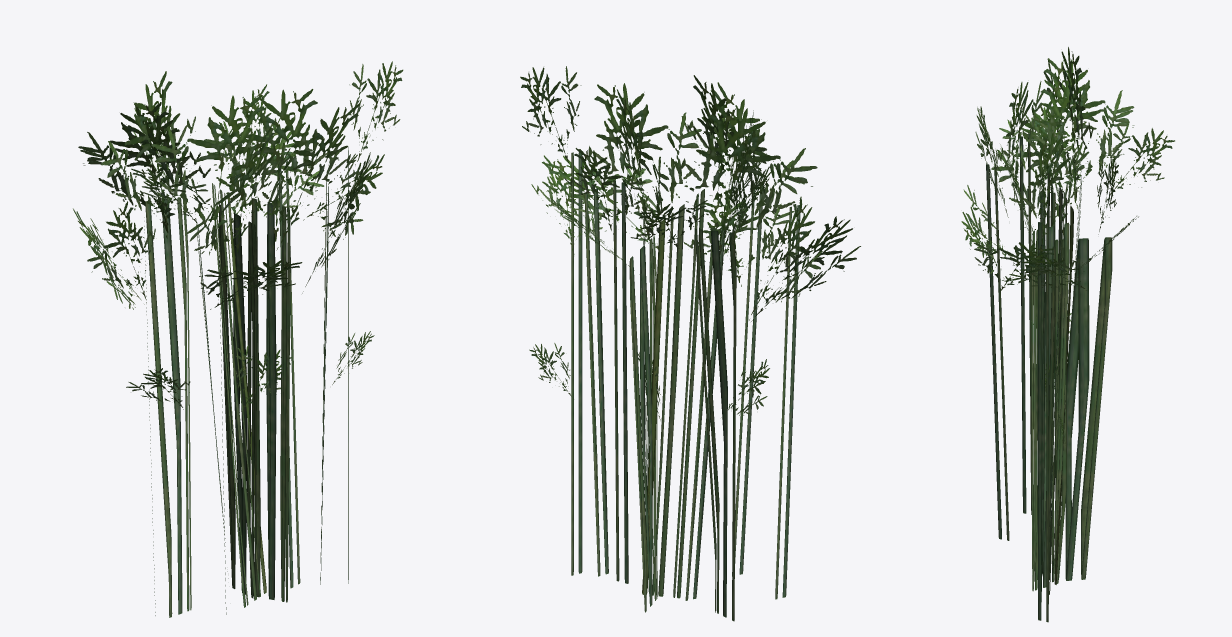
The model's file is leaf_bamboogrove_l3.fbx.
3 renders of one model, left to right at view 1: azimuth 30°, elevation 25°; view 2: azimuth 150°, elevation 25°; view 3: azimuth 270°, elevation 25°, orthographic. The views are drawn at different scales.
Visible parts, largest first — view 1: mesh_node; view 2: mesh_node; view 3: mesh_node.
Part boxes in pixels (x1,y1,x2,y2): mesh_node: [73, 61, 403, 617]; mesh_node: [520, 66, 860, 621]; mesh_node: [961, 47, 1174, 622].
Bounding box in the file's own units: 12.13 × 15.97 × 7.79.
